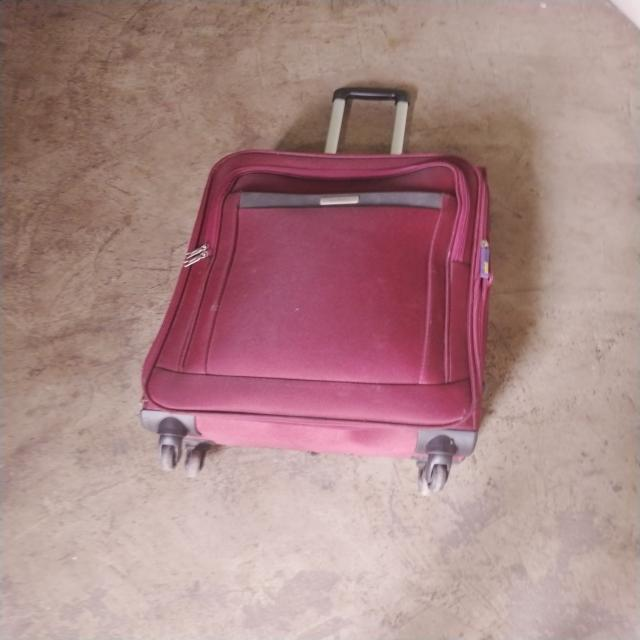suitcaserotation: (133, 82, 498, 498)
